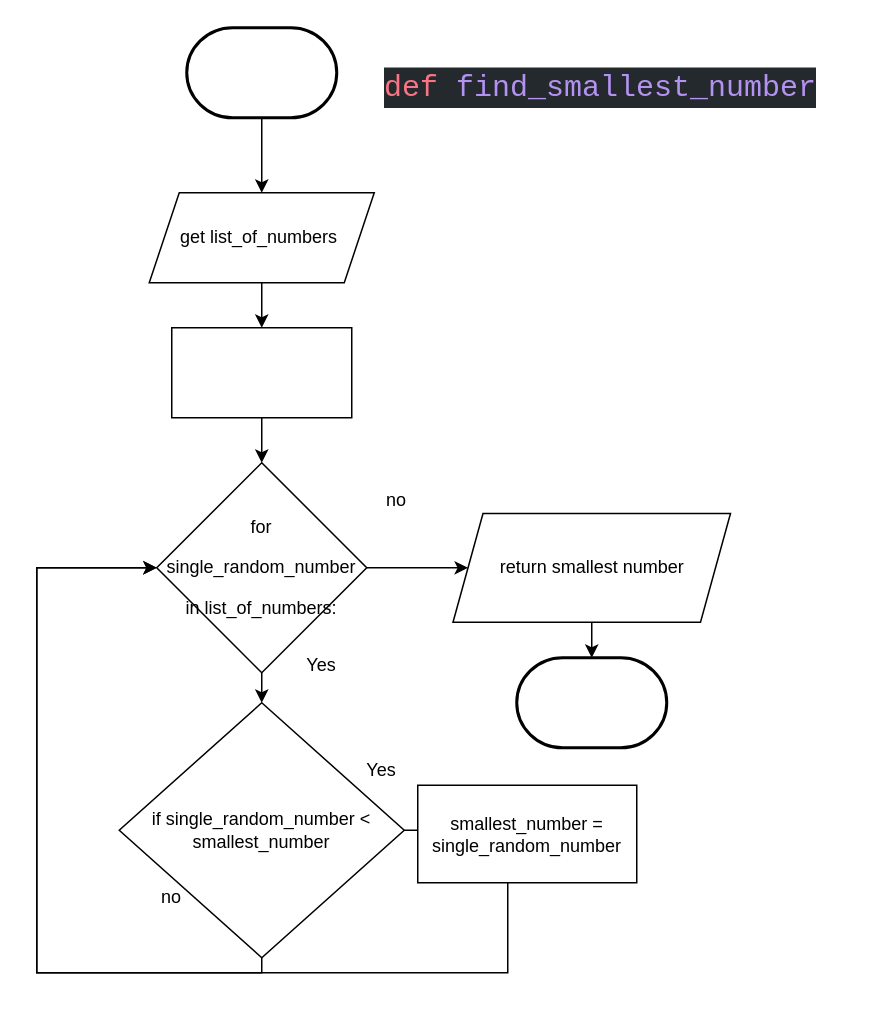
Image size: 873x1011. Some labels were removed from this diagram. The centre of each missing label's shape, as x and y in pixels:
"smallest_number = list_of_numbers[0]" goes at point 261,372.
"Start" goes at point 261,72.
"Stop" goes at point 591,702.
